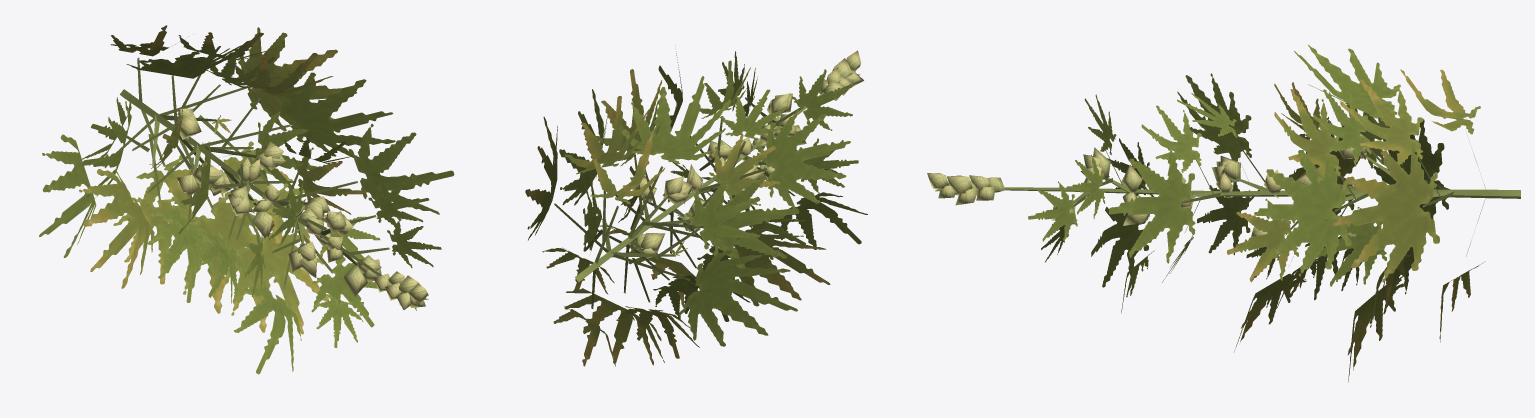
Rendered from p_male_landrace_ripe_c1_cards.obj.
3 views of the same model, side by side, from view 1: azimuth 30°, elevation 25°; view 2: azimuth 150°, elevation 25°; view 3: azimuth 270°, elevation 25° (orthographic). The views are drawn at different scales.
Size of the model in its own units: 1.61 by 1.41 by 2.28.
1 material, 1 textured.
